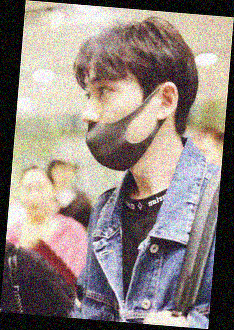mask_weared_incorrect: (80, 84, 158, 170)
